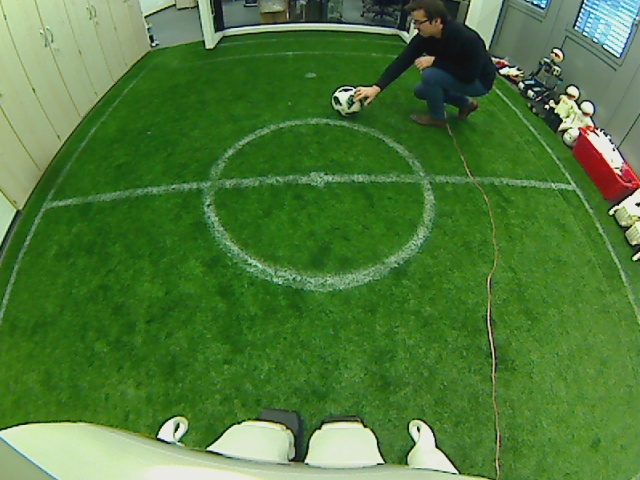ball: (330, 85, 362, 115)
